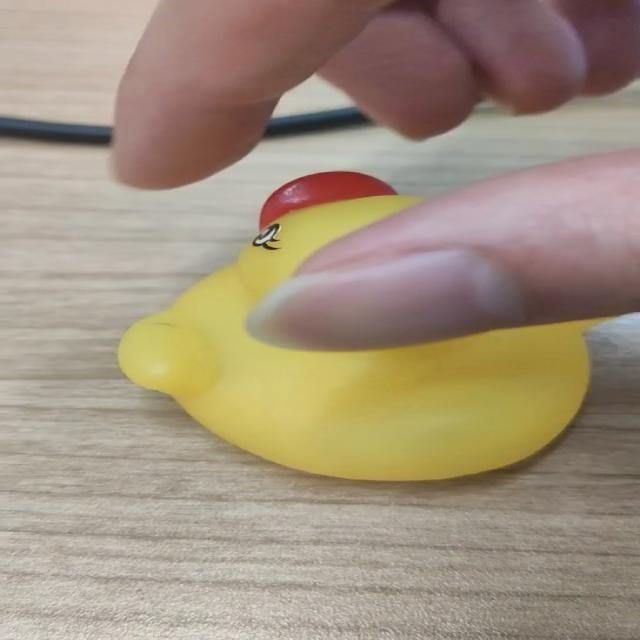rubber-duck: (117, 170, 592, 479)
